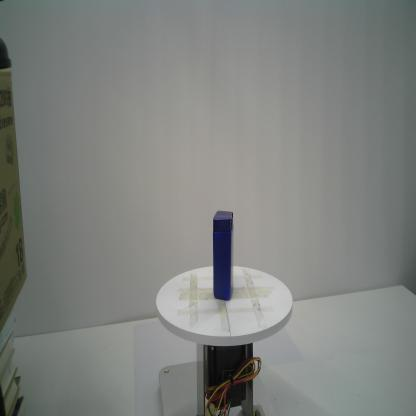Personal Hygiene: (212, 210, 235, 301)
